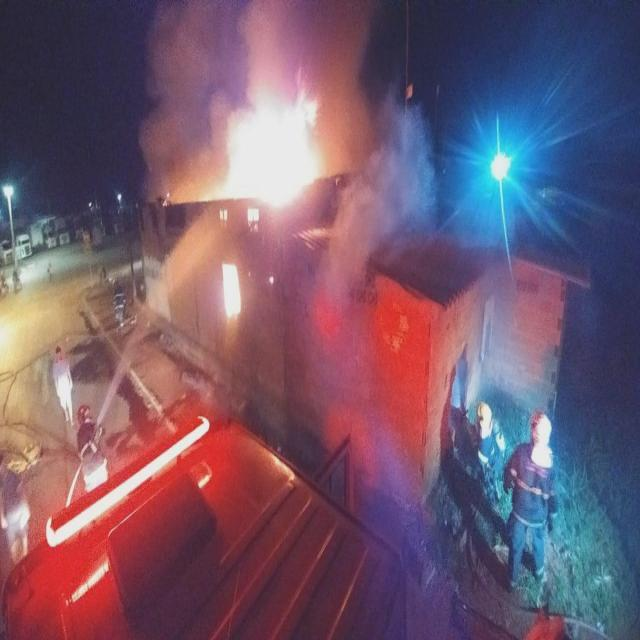Fire: (228, 107, 316, 198)
Smoke: (318, 2, 434, 244), (140, 6, 224, 204), (230, 2, 314, 102)
